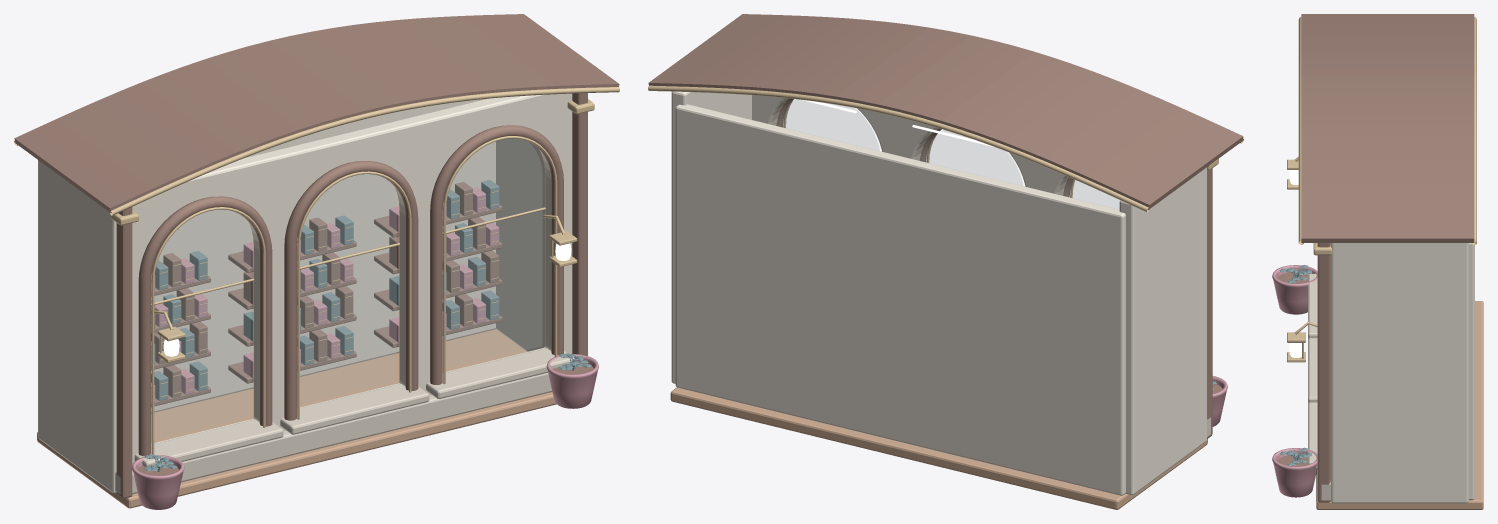
File: bookshop.glb
3 renders of one model, left to right at view 1: azimuth 30°, elevation 25°; view 2: azimuth 150°, elevation 25°; view 3: azimuth 270°, elevation 25°, orthographic. The views are drawn at different scales.
Parts seen in each view (by area): view 1: bookshop-darkWood, bookshop-plaster, bookshop-glass, bookshop-stone, bookshop-wood, bookshop-brass, bookshop-rose, bookshop-ink; view 2: bookshop-plaster, bookshop-darkWood, bookshop-wood, bookshop-glass, bookshop-brass; view 3: bookshop-darkWood, bookshop-plaster, bookshop-wood, bookshop-rose, bookshop-brass, bookshop-stone, bookshop-ink, bookshop-glow.
Boxes of the visible parts, bbox=[...] form: bookshop-darkWood: bbox=[14, 14, 619, 498]; bookshop-plaster: bbox=[38, 93, 572, 493]; bookshop-glass: bbox=[151, 138, 542, 440]; bookshop-stone: bbox=[115, 348, 574, 494]; bookshop-wood: bbox=[37, 329, 556, 508]; bookshop-brass: bbox=[14, 87, 619, 454]; bookshop-rose: bbox=[132, 187, 598, 509]; bookshop-ink: bbox=[143, 180, 591, 471]; bookshop-plaster: bbox=[671, 91, 1206, 495]; bookshop-darkWood: bbox=[648, 14, 1243, 438]; bookshop-wood: bbox=[670, 387, 1207, 509]; bookshop-glass: bbox=[776, 99, 1119, 208]; bookshop-brass: bbox=[648, 85, 1243, 212]; bookshop-darkWood: bbox=[1277, 14, 1474, 502]; bookshop-plaster: bbox=[1330, 243, 1474, 503]; bookshop-wood: bbox=[1316, 301, 1483, 509]; bookshop-rose: bbox=[1272, 265, 1317, 497]; bookshop-brass: bbox=[1287, 17, 1476, 362]; bookshop-stone: bbox=[1308, 273, 1330, 501]; bookshop-ink: bbox=[1280, 265, 1312, 466]; bookshop-glow: bbox=[1289, 170, 1301, 357].
Size of the model in its own units: 9.84 by 6.45 by 3.91.
